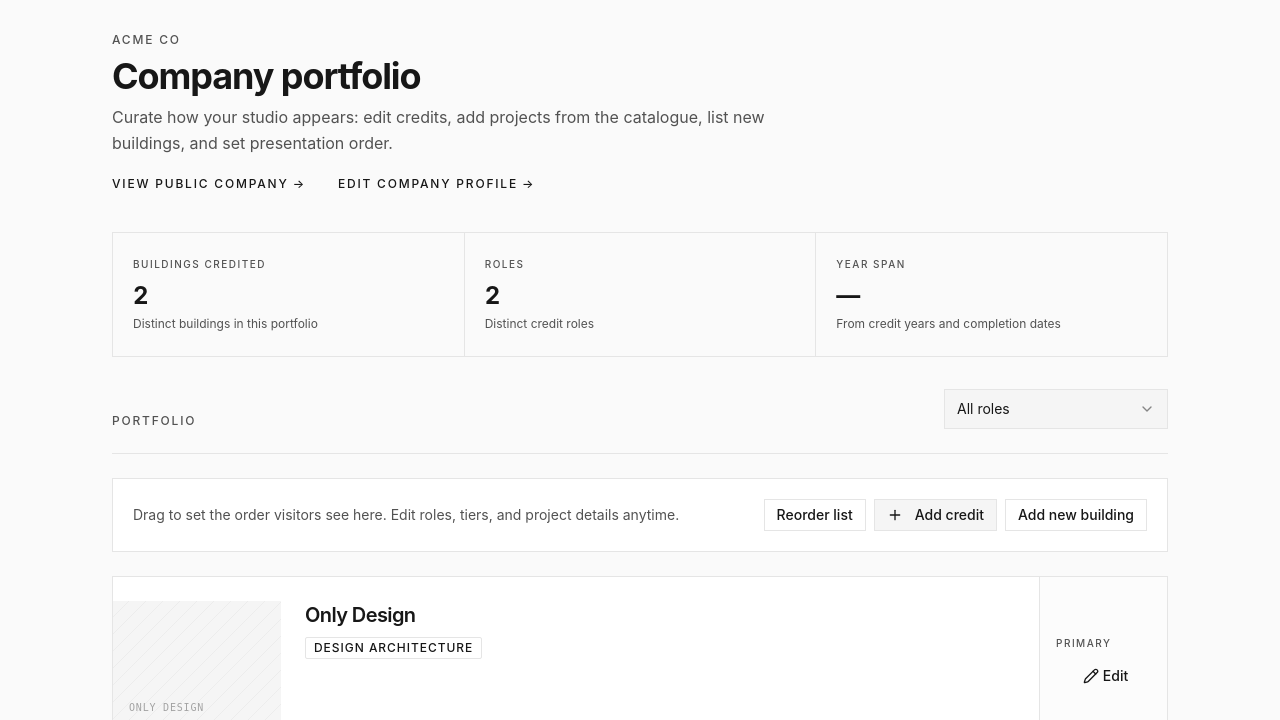
Scenario: CompanyDashboard (QA 9.2) › refetches portfolio with role filter when user picks a role
Expected: the link "Only Design" is shown, [305,603,416,627]
Click the dropdown named "filter by credit role" at (1056, 409), box [944,389,1168,429]
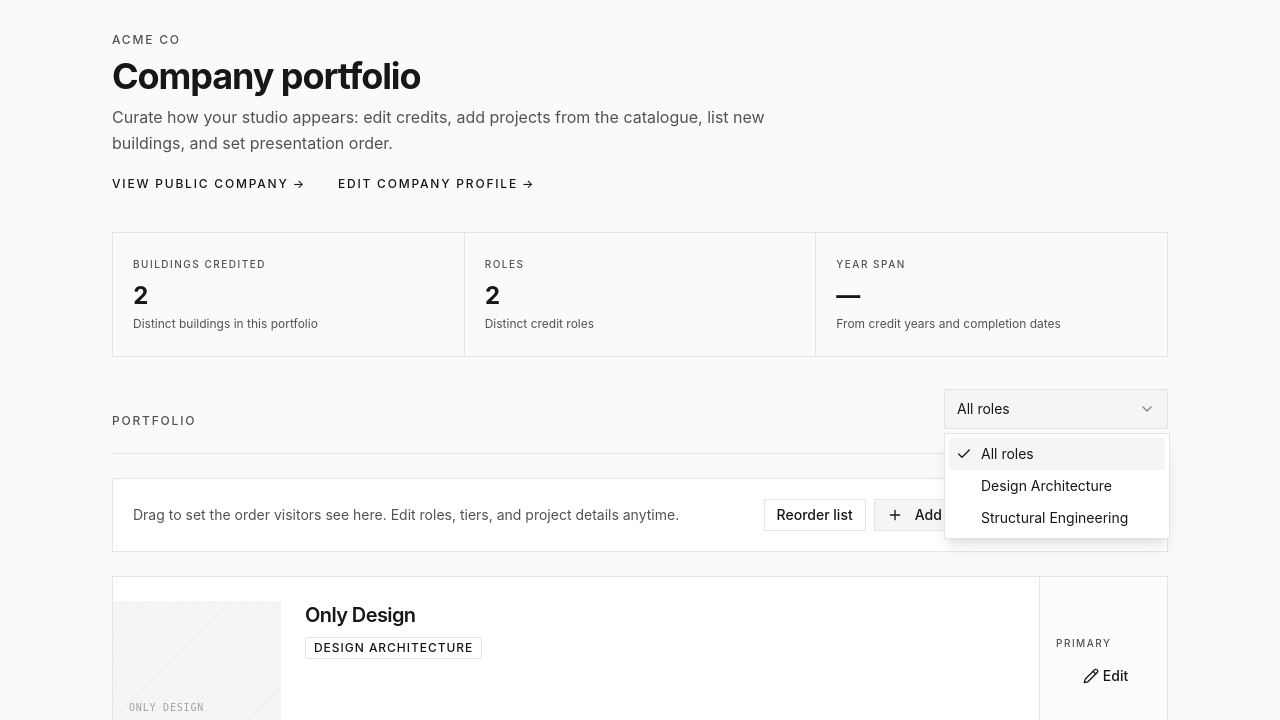
Click the option "Structural Engineering" at (1055, 518), box [981,509,1128,526]
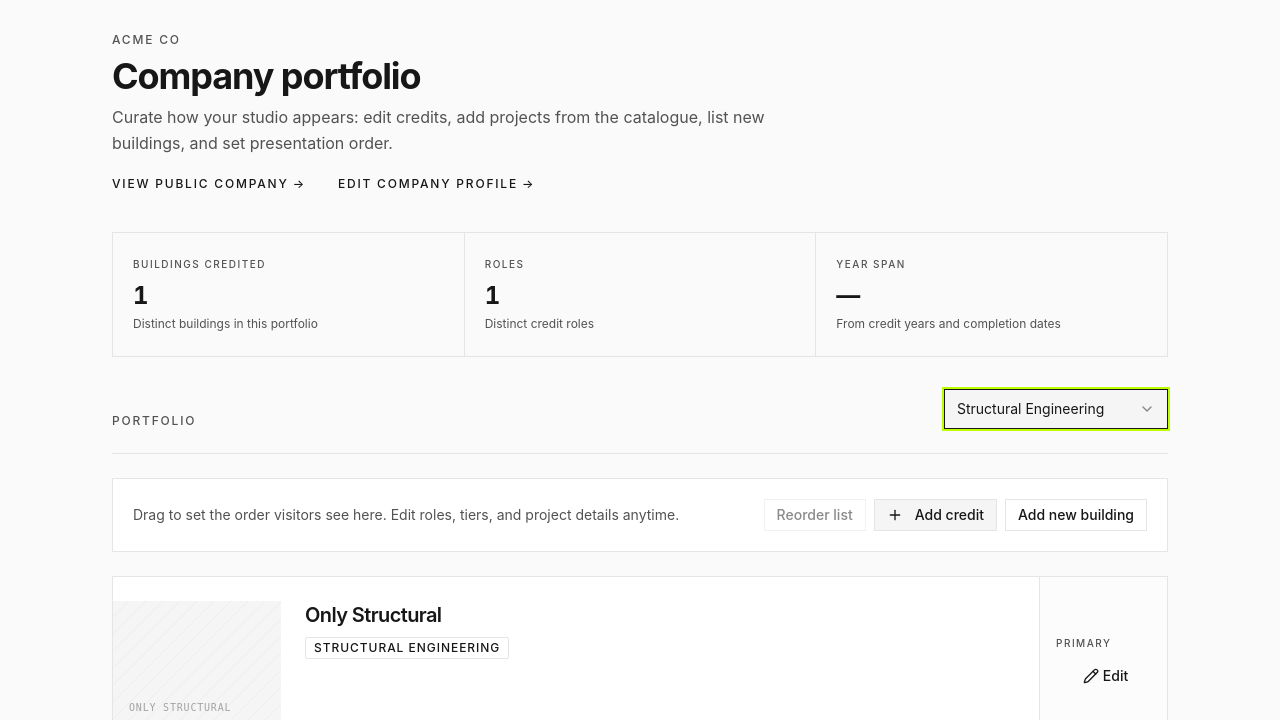
Expected: the link "Only Structural" is shown, [305,603,442,627]
Now the link "Only Design" is gone
